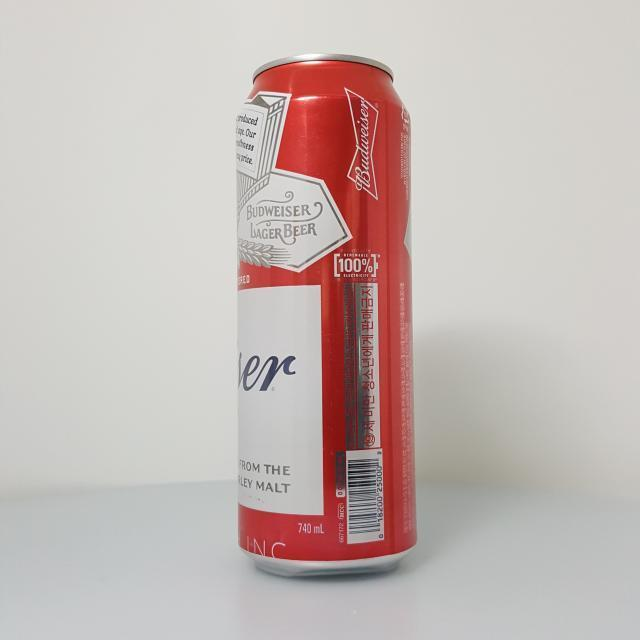metal-can: (235, 53, 417, 578)
